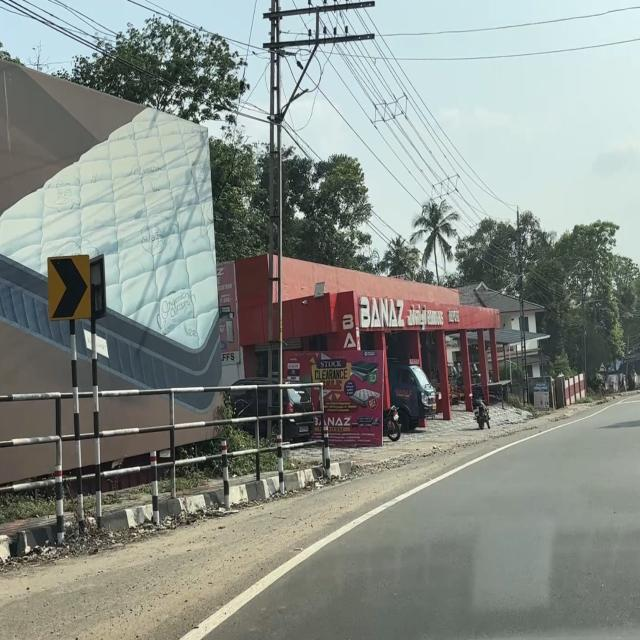TURN_RIGHT: (46, 252, 93, 322)
